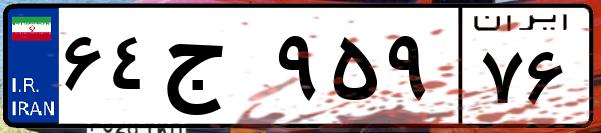4: (110, 28, 158, 98)
5: (330, 28, 385, 110)
6: (57, 26, 110, 100), (525, 38, 570, 115)
7: (475, 38, 525, 113)
9: (270, 28, 330, 110), (385, 28, 445, 110)
ج: (158, 20, 270, 120)
